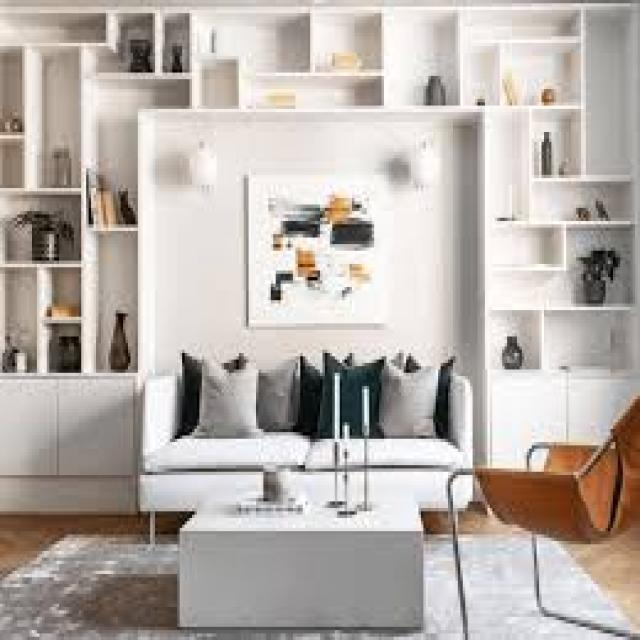Lamp: (400, 130, 448, 200), (185, 125, 222, 205)
Sofa: (130, 356, 489, 529)
Table: (180, 498, 433, 632)
